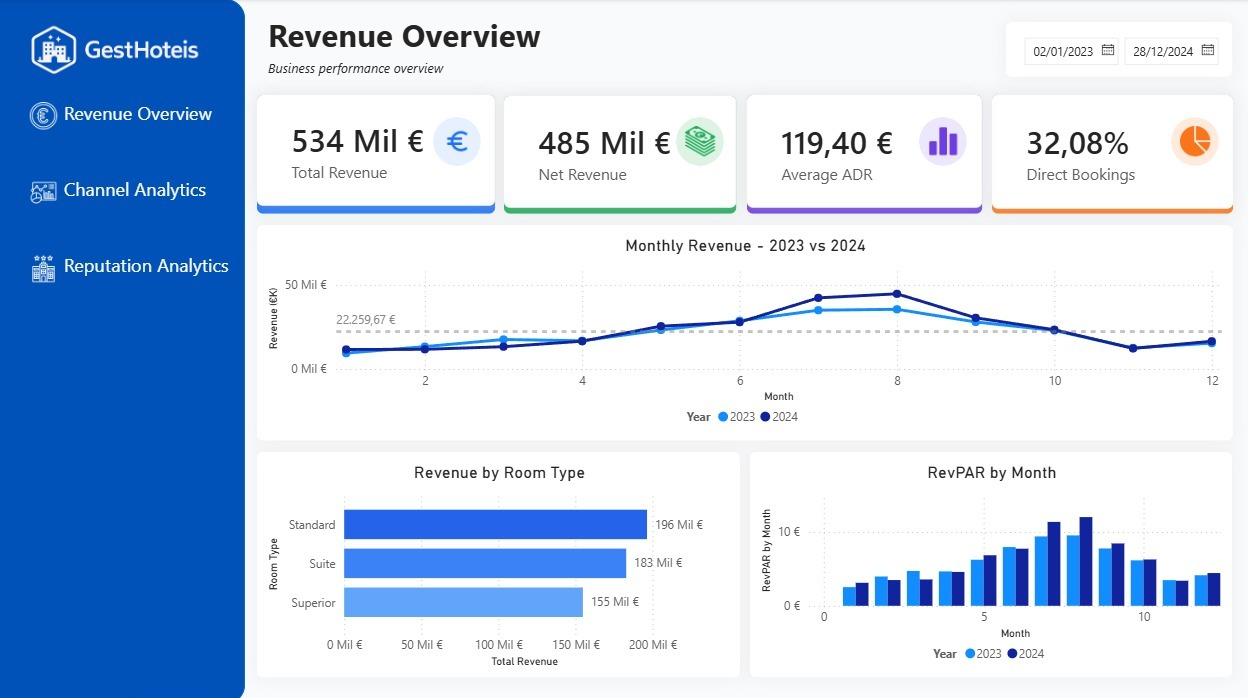

This screenshot's page, from the dashboard's own definition file:
{"tool":"powerbi","page":{"name":"Revenue Overview","canvas":[1280,720],"ordinal":0},"visuals":[{"type":"shape","box":[264.6,98.2,243.2,120.6],"z":0},{"type":"shape","box":[516.7,98.9,236.7,120],"z":1000},{"type":"shape","box":[1014.4,98.1,245.6,120.6],"z":2000},{"type":"cardVisual","title":"Total Revenue","fields":{"Data":["fact_reservas.Total Revenue"]},"box":[264.6,98.2,243.2,112.8],"z":3000},{"type":"lineChart","title":"Monthly Revenue - 2023 vs 2024","fields":{"Category":["kpis_mensais.mes"],"Y":["Sum(kpis_mensais.revenue_total)"],"Series":["kpis_mensais.ano"]},"box":[264.4,231.1,995.6,220],"z":4000},{"type":"barChart","title":"Revenue by Room Type","fields":{"Category":["fact_reservas.tipo_quarto"],"Y":["fact_reservas.Total Revenue"]},"box":[264.4,462.2,493.3,230],"z":5000},{"type":"shape","box":[765,97.5,240,121.2],"z":6000},{"type":"cardVisual","fields":{"Data":["fact_reservas.% Reservas Directas"]},"box":[1014.4,97.8,245.6,115.6],"z":7000},{"type":"clusteredColumnChart","title":"RevPAR by Month","fields":{"Category":["kpis_mensais.mes"],"Y":["Sum(kpis_mensais.RevPAR)"],"Series":["kpis_mensais.ano"]},"box":[767.8,462.2,492.2,230],"z":8000},{"type":"cardVisual","fields":{"Data":["fact_reservas.Revenue Líquido"]},"box":[516.7,98.9,236.7,114.4],"z":9000},{"type":"shape","box":[0,0,252.2,720],"z":10000},{"type":"cardVisual","fields":{"Data":["kpis_mensais.ADR Médio"]},"box":[765,97.7,240,115.4],"z":11000},{"type":"shape","box":[0,0,139.5,719.8],"z":12000},{"type":"image","box":[11.6,23.3,216.7,56],"z":13000},{"type":"textbox","box":[270.6,9.5,302.3,61.3],"z":14000},{"type":"textbox","box":[270.6,56,222,29.6],"z":15000},{"type":"textbox","box":[62.2,98.9,165.6,41.1],"z":16000},{"type":"textbox","box":[62.2,176.7,165.6,41.1],"z":17000},{"type":"textbox","box":[62.2,254.4,190,41.1],"z":18000},{"type":"image","box":[22.2,105.6,47.8,27.8],"z":19000},{"type":"image","box":[22.2,183.3,47.8,27.8],"z":20000},{"type":"image","box":[22.2,261.1,47.8,27.8],"z":21000},{"type":"actionButton","box":[0,93.3,252.2,54.4],"z":22000},{"type":"actionButton","box":[0,170.2,250.9,54.5],"z":23000},{"type":"actionButton","box":[0,246.7,252.2,54.4],"z":24000},{"type":"slicer","fields":{"Values":["fact_reservas.checkin"]},"box":[1028.9,23.3,231.1,55.6],"z":25000},{"type":"shape","box":[444.4,120,48.9,50],"z":26000},{"type":"shape","box":[692.2,120,48.9,50],"z":27000},{"type":"shape","box":[940,120,48.9,50],"z":28000},{"type":"shape","box":[1197.8,120,48.9,50],"z":29000},{"type":"image","box":[452.2,130,33.3,31.1],"z":30000},{"type":"image","box":[700,130,33.3,31.1],"z":31000},{"type":"image","box":[947.8,130,33.3,31.1],"z":32000},{"type":"image","box":[1205.6,130,33.3,31.1],"z":33000}]}

Visuals, with their boxes on the page's 1280x720 design canvas (x1, y1, x2, y2). These are canvas units, not pixel positions in the 1248x698 screenshot, which may show the page scaled, cropped or inside an application window:
shape: 265 98 508 219
shape: 517 99 753 219
shape: 1014 98 1260 219
"Total Revenue" cardVisual: 265 98 508 211
"Monthly Revenue - 2023 vs 2024" lineChart: 264 231 1260 451
"Revenue by Room Type" barChart: 264 462 758 692
shape: 765 98 1005 219
cardVisual - fact_reservas.% Reservas Directas: 1014 98 1260 213
"RevPAR by Month" clusteredColumnChart: 768 462 1260 692
cardVisual - fact_reservas.Revenue Líquido: 517 99 753 213
shape: 0 0 252 720
cardVisual - kpis_mensais.ADR Médio: 765 98 1005 213
shape: 0 0 140 720
image: 12 23 228 79
textbox: 271 10 573 71
textbox: 271 56 493 86
textbox: 62 99 228 140
textbox: 62 177 228 218
textbox: 62 254 252 296
image: 22 106 70 133
image: 22 183 70 211
image: 22 261 70 289
actionButton: 0 93 252 148
actionButton: 0 170 251 225
actionButton: 0 247 252 301
slicer - fact_reservas.checkin: 1029 23 1260 79
shape: 444 120 493 170
shape: 692 120 741 170
shape: 940 120 989 170
shape: 1198 120 1247 170
image: 452 130 486 161
image: 700 130 733 161
image: 948 130 981 161
image: 1206 130 1239 161
